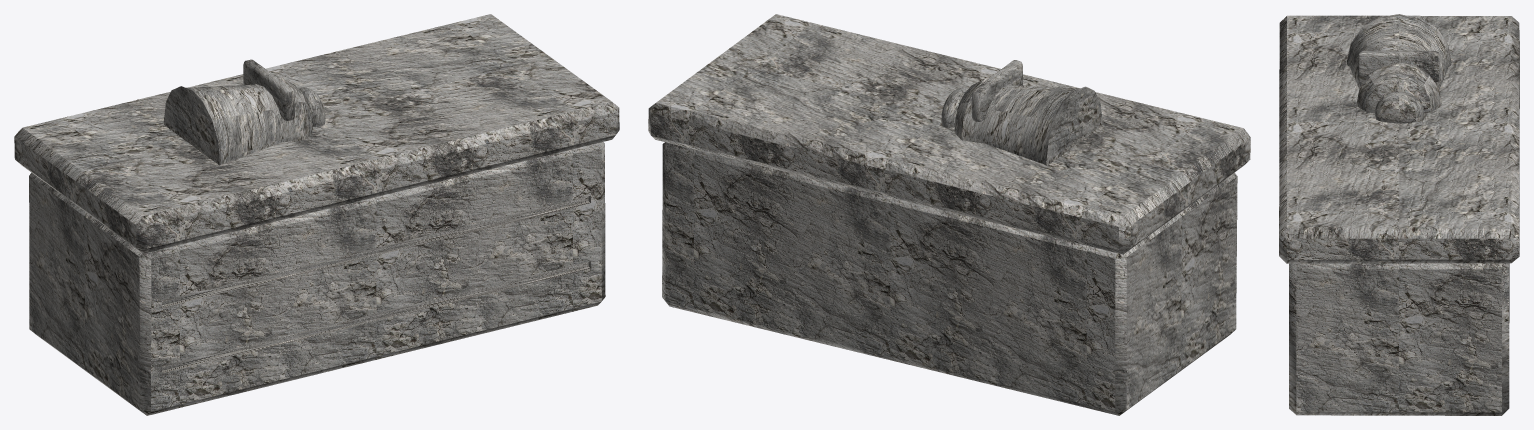
Rendered from sarcophagus-v02.glb.
3 views of the same model, side by side, from view 1: azimuth 30°, elevation 25°; view 2: azimuth 150°, elevation 25°; view 3: azimuth 270°, elevation 25° (orthographic). The views are drawn at different scales.
Visible parts, largest first — view 1: sarcophagus; view 2: sarcophagus; view 3: sarcophagus.
Boxes of the visible parts, x1,y1,x2,y2 form: sarcophagus: [14, 14, 619, 415]; sarcophagus: [648, 14, 1250, 415]; sarcophagus: [1279, 14, 1519, 415].
Size of the model in its own units: 2.71 by 1.4 by 1.25.
Materials: 1 (1 with a texture image).
